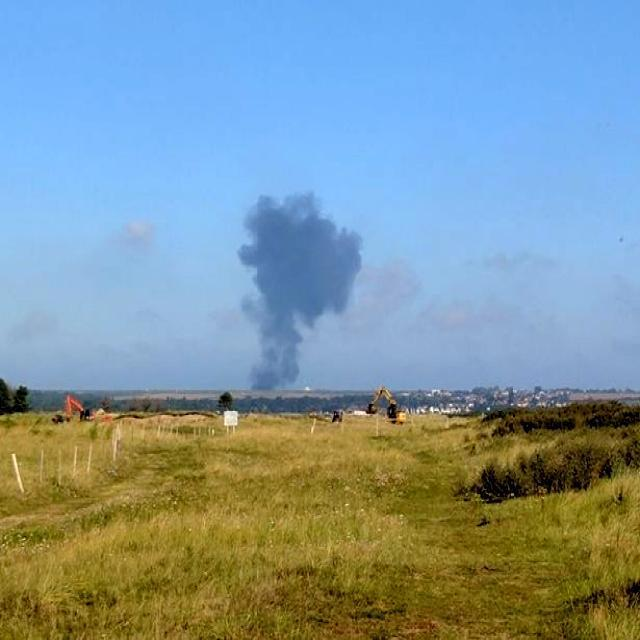Smoke: (225, 190, 365, 402)
